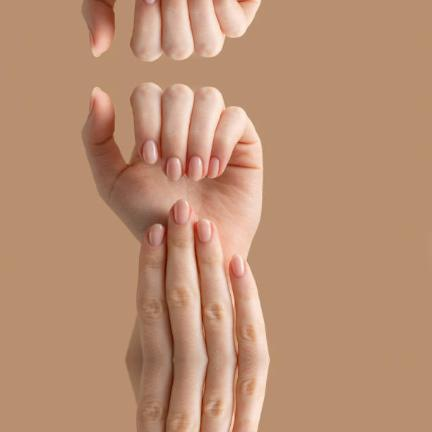Nail: (142, 139, 159, 164), (174, 198, 189, 225), (166, 156, 182, 181), (148, 223, 165, 246), (188, 155, 203, 181), (231, 253, 245, 278), (197, 218, 211, 243), (208, 156, 219, 179), (143, 0, 157, 5)
